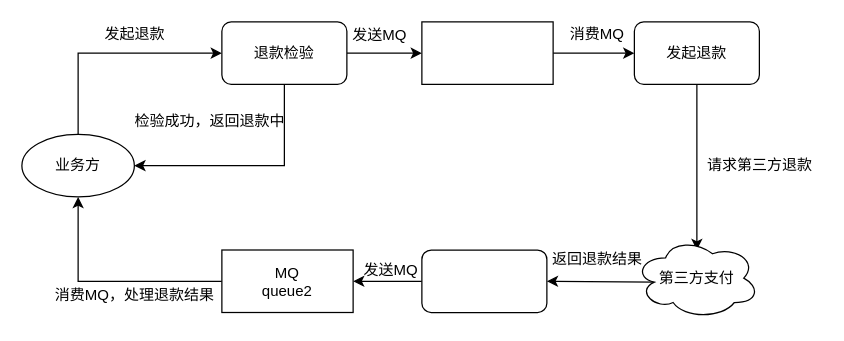
This 844x341 diagram has some shape labels left out. Each missing label, with the centre of its shape:
MQ queue1: the point at 487,52
处理退款结果: the point at 484,280
